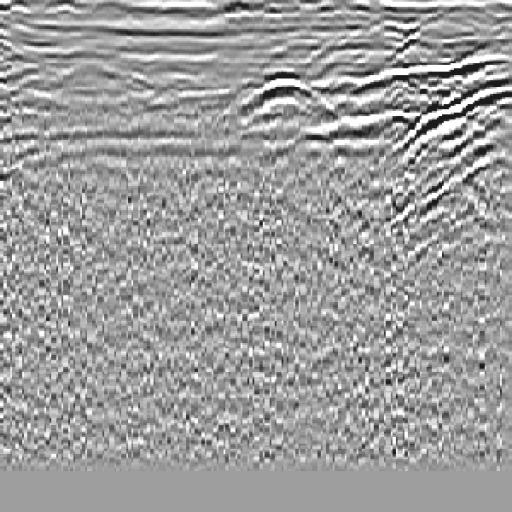metalic: (221, 55, 347, 120)
non-metallic: (385, 66, 512, 252)
